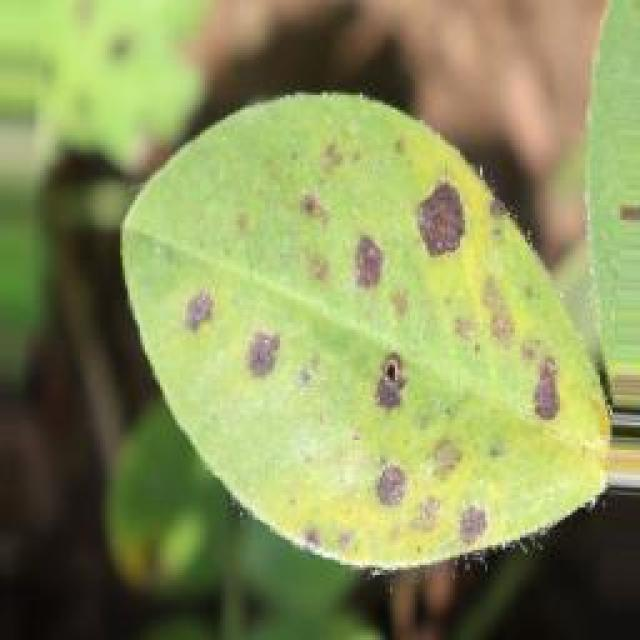Yellowish: (101, 106, 582, 564)
